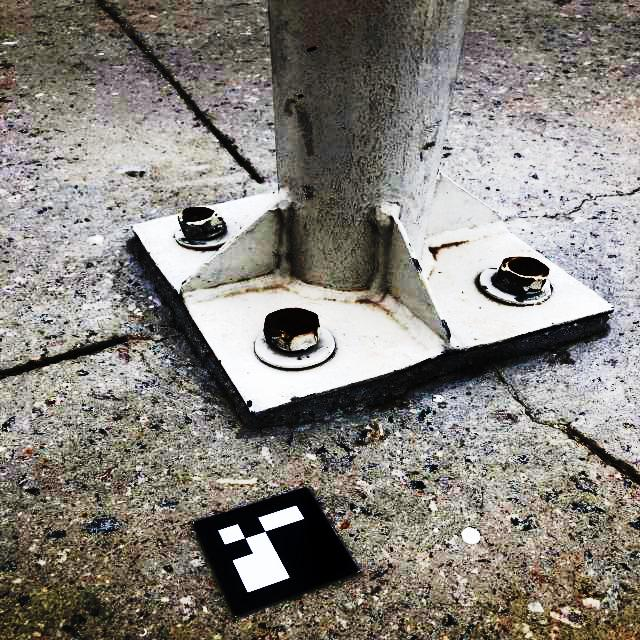Corrosion: (264, 307, 321, 344), (500, 256, 550, 278), (498, 267, 534, 285), (182, 207, 214, 219), (306, 46, 317, 52), (297, 94, 305, 98), (217, 217, 222, 220), (215, 214, 218, 216)
